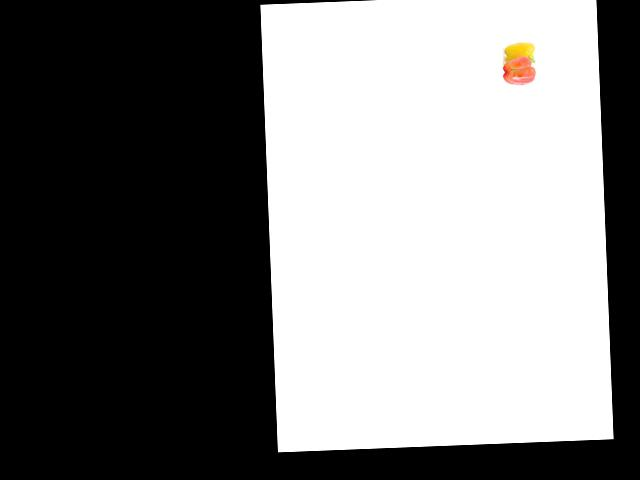bell_pepper: (502, 41, 534, 68)
